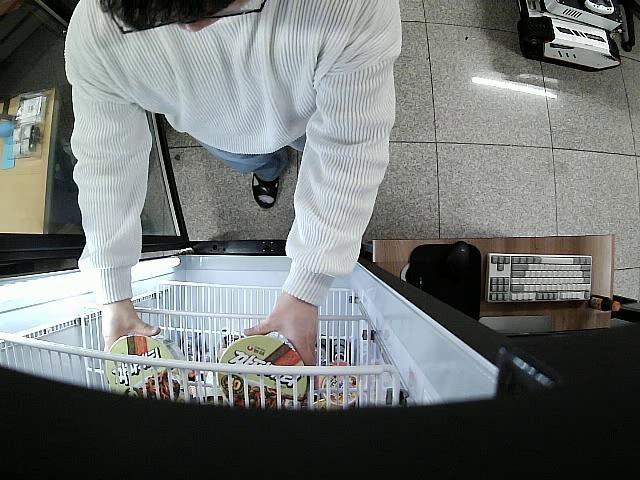03_chapagetti_L: (219, 336, 308, 413), (106, 336, 188, 404)
